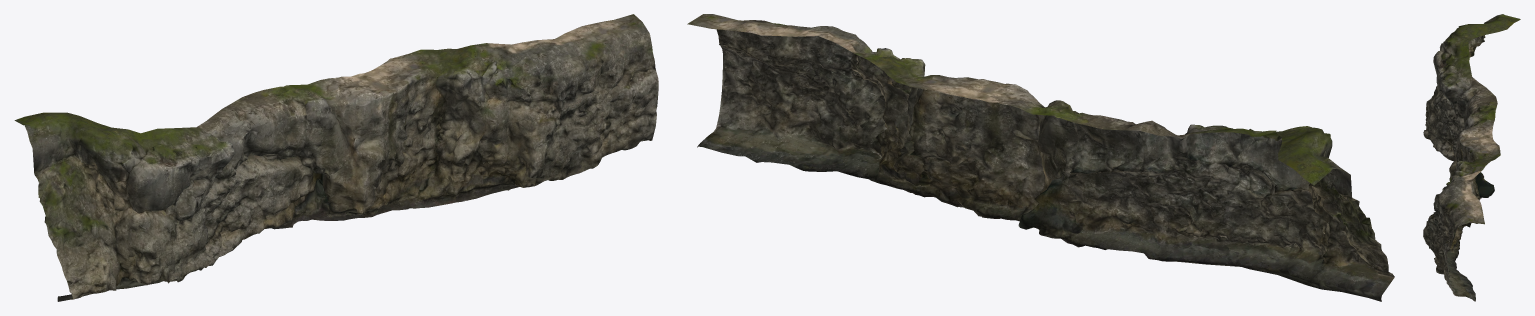
The model's file is coastal_cliff_02.glb.
3 views of the same model, side by side, from view 1: azimuth 30°, elevation 25°; view 2: azimuth 150°, elevation 25°; view 3: azimuth 270°, elevation 25° (orthographic). The views are drawn at different scales.
Visible parts, largest first — view 1: coastal_cliff_02_LOD0; view 2: coastal_cliff_02_LOD0; view 3: coastal_cliff_02_LOD0.
Boxes of the visible parts, left/top/right/bottom form: coastal_cliff_02_LOD0: left=14, top=14, right=658, bottom=301; coastal_cliff_02_LOD0: left=687, top=14, right=1394, bottom=301; coastal_cliff_02_LOD0: left=1423, top=14, right=1520, bottom=301.
Bounding box in the file's own units: 40.93 × 10.01 × 8.62.
1 material, 1 textured.
